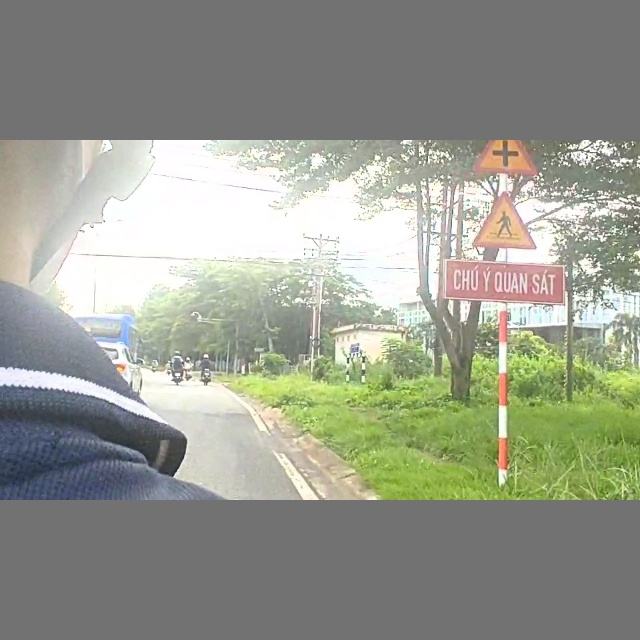W.205a: (471, 141, 542, 175)
W.224: (474, 191, 541, 251)
